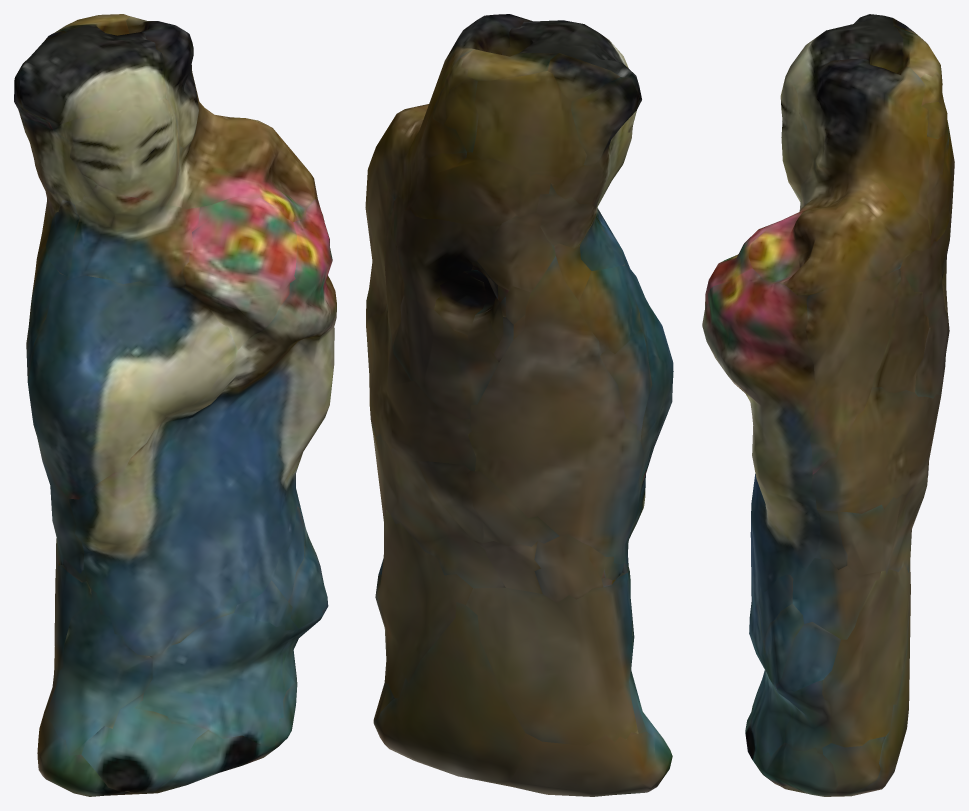
File: hall.glb
3 renders of one model, left to right at view 1: azimuth 30°, elevation 25°; view 2: azimuth 150°, elevation 25°; view 3: azimuth 270°, elevation 25°, orthographic. The views are drawn at different scales.
Size of the model in its own units: 0.2854 by 0.6958 by 0.2266.
Materials: 1 (1 with a texture image).
